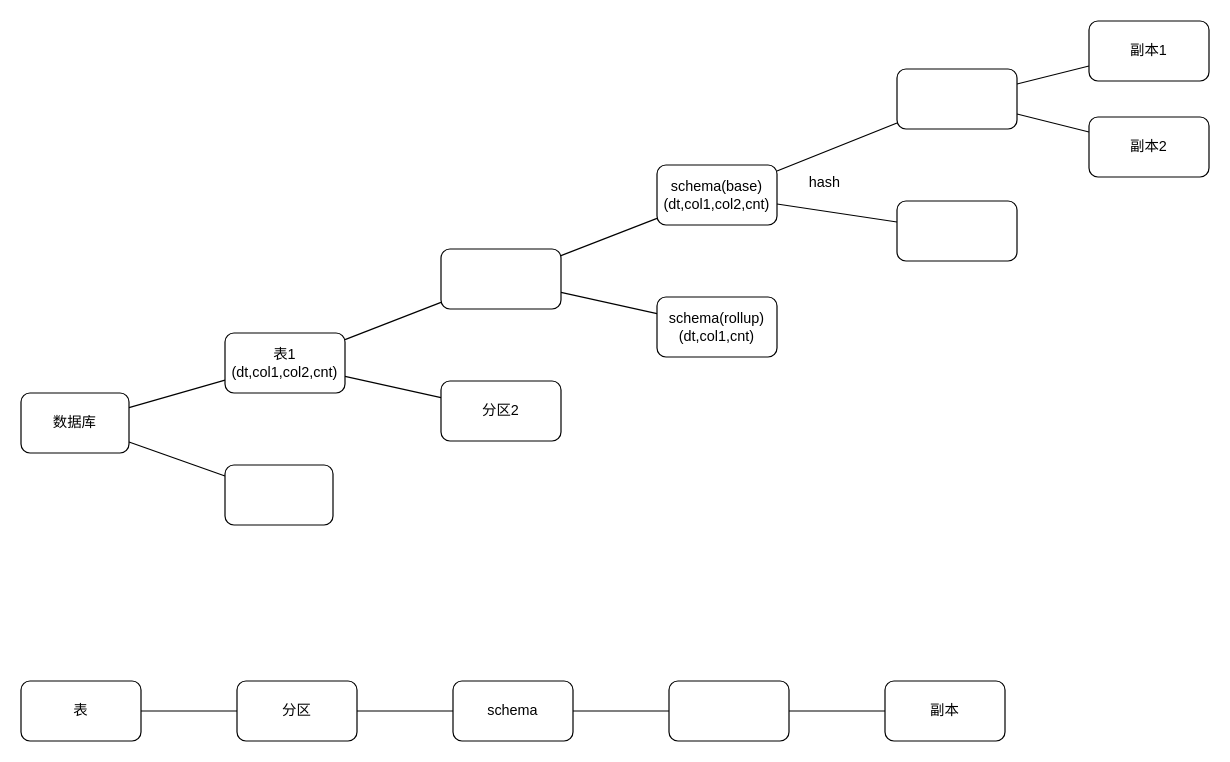
Some shapes in this 1230 by 762 pixel diagram are drawn without their labels. The shapes that lost their labels are listed below. From the top down, each one's centre as x and y in pixels, then its label:
the point at 956,98: Tablet1 分桶1
the point at 956,230: 分桶2
the point at 500,278: partition1 dt:[0301,0401]
the point at 278,494: 表2
the point at 728,710: 分桶
